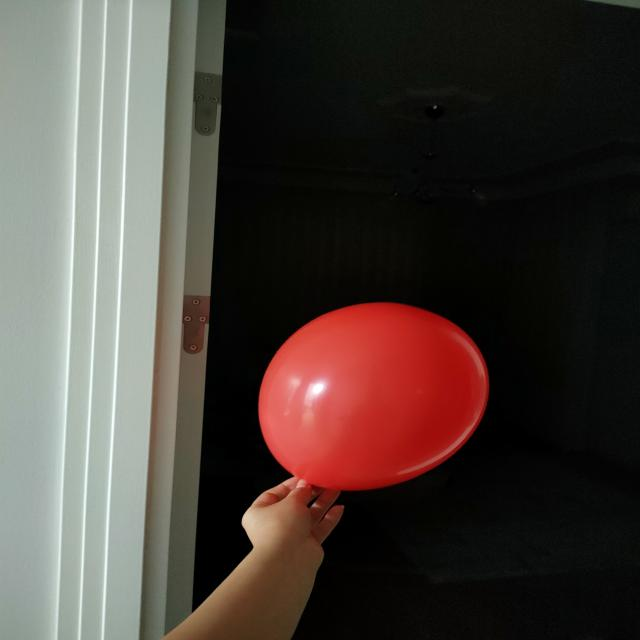red: (262, 303, 488, 492)
